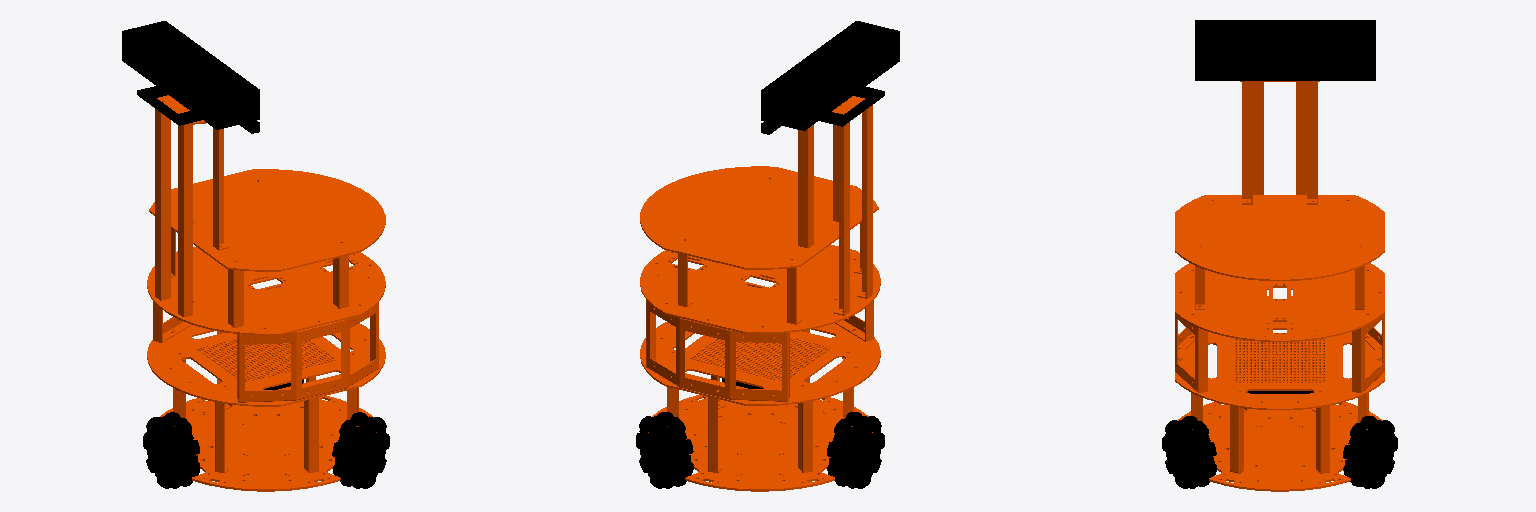
The robot description file, URDF, robot "omnirelease":
<robot
  name="omnirelease">
  <link
    name="base_link">
    <inertial>
      <origin
        xyz="-0.0085801 -3.7954E-05 0.21672"
        rpy="0 0 0" />
      <mass
        value="0.89182" />
      <inertia
        ixx="0.021823"
        ixy="-1.5783E-05"
        ixz="0.0018708"
        iyy="0.022116"
        iyz="8.8597E-06"
        izz="0.011565" />
    </inertial>
    <visual>
      <origin
        xyz="0 0 0"
        rpy="0 0 0" />
      <geometry>
        <mesh
          filename="package://omnirelease/meshes/base_link.STL" />
      </geometry>
      <material
        name="">
        <color
          rgba="1 0.38 0 1" />
      </material>
    </visual>
    <collision>
      <origin
        xyz="0 0 0"
        rpy="0 0 0" />
      <geometry>
        <mesh
          filename="package://omnirelease/meshes/base_link.STL" />
      </geometry>
    </collision>
  </link>
  <link
    name="wheel_1_link">
    <inertial>
      <origin
        xyz="-3.9527E-06 0.0080388 -0.0021151"
        rpy="0 0 0" />
      <mass
        value="0.13181" />
      <inertia
        ixx="9.678E-05"
        ixy="-9.3387E-09"
        ixz="-3.4848E-09"
        iyy="0.00016474"
        iyz="-4.1137E-09"
        izz="9.6787E-05" />
    </inertial>
    <visual>
      <origin
        xyz="0 0 0"
        rpy="0 0 0" />
      <geometry>
        <mesh
          filename="package://omnirelease/meshes/wheel_1_link.STL" />
      </geometry>
      <material
        name="">
        <color
          rgba="0 0 0 1" />
      </material>
    </visual>
    <collision>
      <origin
        xyz="0 0 0"
        rpy="0 0 0" />
      <geometry>
        <mesh
          filename="package://omnirelease/meshes/wheel_1_link.STL" />
      </geometry>
    </collision>
  </link>
  <joint
    name="wheel_1_joint"
    type="continuous">
    <origin
      xyz="0.067501 0.11691 0.047921"
      rpy="3.1416 0 2.618" />
    <parent
      link="base_link" />
    <child
      link="wheel_1_link" />
    <axis
      xyz="0 1 0" />
  </joint>
  <link
    name="wheel_2_link">
    <inertial>
      <origin
        xyz="-5.1879E-06 0.0080388 -0.0021151"
        rpy="0 0 0" />
      <mass
        value="0.13181" />
      <inertia
        ixx="9.678E-05"
        ixy="-9.3385E-09"
        ixz="-3.4857E-09"
        iyy="0.00016474"
        iyz="-4.1135E-09"
        izz="9.6787E-05" />
    </inertial>
    <visual>
      <origin
        xyz="0 0 0"
        rpy="0 0 0" />
      <geometry>
        <mesh
          filename="package://omnirelease/meshes/wheel_2_link.STL" />
      </geometry>
      <material
        name="">
        <color
          rgba="0 0 0 1" />
      </material>
    </visual>
    <collision>
      <origin
        xyz="0 0 0"
        rpy="0 0 0" />
      <geometry>
        <mesh
          filename="package://omnirelease/meshes/wheel_2_link.STL" />
      </geometry>
    </collision>
  </link>
  <joint
    name="wheel_2_joint"
    type="continuous">
    <origin
      xyz="-0.135 0 0.047921"
      rpy="3.1416 0 -1.5708" />
    <parent
      link="base_link" />
    <child
      link="wheel_2_link" />
    <axis
      xyz="0 1 0" />
  </joint>
  <link
    name="wheel_3_link">
    <inertial>
      <origin
        xyz="-3.9526E-06 0.0080388 -0.0021151"
        rpy="0 0 0" />
      <mass
        value="0.13181" />
      <inertia
        ixx="9.678E-05"
        ixy="-9.3386E-09"
        ixz="-3.4848E-09"
        iyy="0.00016474"
        iyz="-4.1138E-09"
        izz="9.6787E-05" />
    </inertial>
    <visual>
      <origin
        xyz="0 0 0"
        rpy="0 0 0" />
      <geometry>
        <mesh
          filename="package://omnirelease/meshes/wheel_3_link.STL" />
      </geometry>
      <material
        name="">
        <color
          rgba="0 0 0 1" />
      </material>
    </visual>
    <collision>
      <origin
        xyz="0 0 0"
        rpy="0 0 0" />
      <geometry>
        <mesh
          filename="package://omnirelease/meshes/wheel_3_link.STL" />
      </geometry>
    </collision>
  </link>
  <joint
    name="wheel_3_joint"
    type="continuous">
    <origin
      xyz="0.067499 -0.11691 0.047921"
      rpy="3.1416 0 0.5236" />
    <parent
      link="base_link" />
    <child
      link="wheel_3_link" />
    <axis
      xyz="0 1 0" />
  </joint>
  <link
    name="kinectv2_link">
    <inertial>
      <origin
        xyz="0.00075402 0.00051627 0.035917"
        rpy="0 0 0" />
      <mass
        value="0.78726" />
      <inertia
        ixx="0.004127"
        ixy="-1.209E-05"
        ixz="2.0669E-05"
        iyy="0.00050417"
        iyz="-1.2532E-06"
        izz="0.0042383" />
    </inertial>
    <visual>
      <origin
        xyz="0 0 0"
        rpy="0 0 0" />
      <geometry>
        <mesh
          filename="package://omnirelease/meshes/kinectv2_link.STL" />
      </geometry>
      <material
        name="">
        <color
          rgba="0 0 0 1" />
      </material>
    </visual>
    <collision>
      <origin
        xyz="0 0 0"
        rpy="0 0 0" />
      <geometry>
        <mesh
          filename="package://omnirelease/meshes/kinectv2_link.STL" />
      </geometry>
    </collision>
  </link>
  <joint
    name="kinectv2_joint"
    type="fixed">
    <origin
      xyz="-0.11 0.0075 0.54505"
      rpy="0 0 0" />
    <parent
      link="base_link" />
    <child
      link="kinectv2_link" />
    <axis
      xyz="0 0 0" />
  </joint>
  <link
    name="kinectv2_rgb_link">
    <inertial>
      <origin
        xyz="-0.0025 1.3878E-17 0"
        rpy="0 0 0" />
      <mass
        value="0.0035343" />
      <inertia
        ixx="3.9761E-07"
        ixy="-2.2058E-24"
        ixz="-6.6174E-24"
        iyy="2.0617E-07"
        iyz="1.7647E-23"
        izz="2.0617E-07" />
    </inertial>
    <visual>
      <origin
        xyz="0 0 0"
        rpy="0 0 0" />
      <geometry>
        <mesh
          filename="package://omnirelease/meshes/kinectv2_rgb_link.STL" />
      </geometry>
      <material
        name="">
        <color
          rgba="0 0 0 1" />
      </material>
    </visual>
    <collision>
      <origin
        xyz="0 0 0"
        rpy="0 0 0" />
      <geometry>
        <mesh
          filename="package://omnirelease/meshes/kinectv2_rgb_link.STL" />
      </geometry>
    </collision>
  </link>
  <joint
    name="kinectv2_rgb_joint"
    type="fixed">
    <origin
      xyz="0.033 -0.095 0.039"
      rpy="0 0 0" />
    <parent
      link="kinectv2_link" />
    <child
      link="kinectv2_rgb_link" />
    <axis
      xyz="0 0 0" />
  </joint>
  <link
    name="kinectv2_rgb_opical_link">
    <inertial>
      <origin
        xyz="-0.0025 1.3878E-17 0"
        rpy="0 0 0" />
      <mass
        value="0.0035343" />
      <inertia
        ixx="3.9761E-07"
        ixy="-2.2058E-24"
        ixz="-6.6174E-24"
        iyy="2.0617E-07"
        iyz="1.7647E-23"
        izz="2.0617E-07" />
    </inertial>
    <visual>
      <origin
        xyz="0 0 0"
        rpy="0 0 0" />
      <geometry>
        <mesh
          filename="package://omnirelease/meshes/kinectv2_rgb_opical_link.STL" />
      </geometry>
      <material
        name="">
        <color
          rgba="0 0 0 1" />
      </material>
    </visual>
    <collision>
      <origin
        xyz="0 0 0"
        rpy="0 0 0" />
      <geometry>
        <mesh
          filename="package://omnirelease/meshes/kinectv2_rgb_opical_link.STL" />
      </geometry>
    </collision>
  </link>
  <joint
    name="kinectv2_rgb_opical_joint"
    type="fixed">
    <origin
      xyz="0 0 0"
      rpy="0 0 0" />
    <parent
      link="kinectv2_rgb_link" />
    <child
      link="kinectv2_rgb_opical_link" />
    <axis
      xyz="0 0 0" />
  </joint>
  <link
    name="kinectv2_depth_link">
    <inertial>
      <origin
        xyz="-0.0025 0 0"
        rpy="0 0 0" />
      <mass
        value="0.0015708" />
      <inertia
        ixx="7.854E-08"
        ixy="-1.1029E-24"
        ixz="0"
        iyy="4.2542E-08"
        iyz="1.0756E-40"
        izz="4.2542E-08" />
    </inertial>
    <visual>
      <origin
        xyz="0 0 0"
        rpy="0 0 0" />
      <geometry>
        <mesh
          filename="package://omnirelease/meshes/kinectv2_depth_link.STL" />
      </geometry>
      <material
        name="">
        <color
          rgba="0 0 0 1" />
      </material>
    </visual>
    <collision>
      <origin
        xyz="0 0 0"
        rpy="0 0 0" />
      <geometry>
        <mesh
          filename="package://omnirelease/meshes/kinectv2_depth_link.STL" />
      </geometry>
    </collision>
  </link>
  <joint
    name="kinectv2_depth_joint"
    type="fixed">
    <origin
      xyz="0.033 -0.045 0.039"
      rpy="0 0 0" />
    <parent
      link="kinectv2_link" />
    <child
      link="kinectv2_depth_link" />
    <axis
      xyz="0 0 0" />
  </joint>
  <link
    name="kinectv2_depth_opical_link">
    <inertial>
      <origin
        xyz="-0.0025 0 0"
        rpy="0 0 0" />
      <mass
        value="0.0015708" />
      <inertia
        ixx="7.854E-08"
        ixy="-1.1029E-24"
        ixz="0"
        iyy="4.2542E-08"
        iyz="1.0756E-40"
        izz="4.2542E-08" />
    </inertial>
    <visual>
      <origin
        xyz="0 0 0"
        rpy="0 0 0" />
      <geometry>
        <mesh
          filename="package://omnirelease/meshes/kinectv2_depth_opical_link.STL" />
      </geometry>
      <material
        name="">
        <color
          rgba="0 0 0 1" />
      </material>
    </visual>
    <collision>
      <origin
        xyz="0 0 0"
        rpy="0 0 0" />
      <geometry>
        <mesh
          filename="package://omnirelease/meshes/kinectv2_depth_opical_link.STL" />
      </geometry>
    </collision>
  </link>
  <joint
    name="kinectv2_depth_opical_joint"
    type="fixed">
    <origin
      xyz="0 0 0"
      rpy="0 0 0" />
    <parent
      link="kinectv2_depth_link" />
    <child
      link="kinectv2_depth_opical_link" />
    <axis
      xyz="0 0 0" />
  </joint>
</robot>

--- Render facts (derived) ---
3 views of the same robot in one strip: view 1: azimuth 30°, elevation 25°; view 2: azimuth 150°, elevation 25°; view 3: azimuth 270°, elevation 25° (orthographic).
Model omnirelease with 9 links and 8 joints (3 continuous, 5 fixed), rooted at base_link, posed all joints at 0.
Visible links, largest first — view 1: base_link, kinectv2_link, wheel_2_link, wheel_3_link; view 2: base_link, kinectv2_link, wheel_2_link, wheel_1_link; view 3: base_link, kinectv2_link, wheel_3_link, wheel_1_link.
Link boxes in pixels (<box>): base_link: <box>147,95,385,491</box>; kinectv2_link: <box>122,21,259,133</box>; wheel_2_link: <box>143,412,199,488</box>; wheel_3_link: <box>332,412,389,488</box>; base_link: <box>640,96,880,491</box>; kinectv2_link: <box>761,21,899,134</box>; wheel_2_link: <box>827,412,884,488</box>; wheel_1_link: <box>636,412,693,488</box>; base_link: <box>1175,81,1384,491</box>; kinectv2_link: <box>1195,20,1375,80</box>; wheel_3_link: <box>1162,416,1216,488</box>; wheel_1_link: <box>1343,416,1397,488</box>.
Bounding box of the posed robot: 0.3203 × 0.3254 × 0.606 m (x, y, z).
Meshes: 9 distinct files referenced, 7 mesh visuals loaded (7 binary STL); not drawn: 2 (reference not matched to a file when rendering).